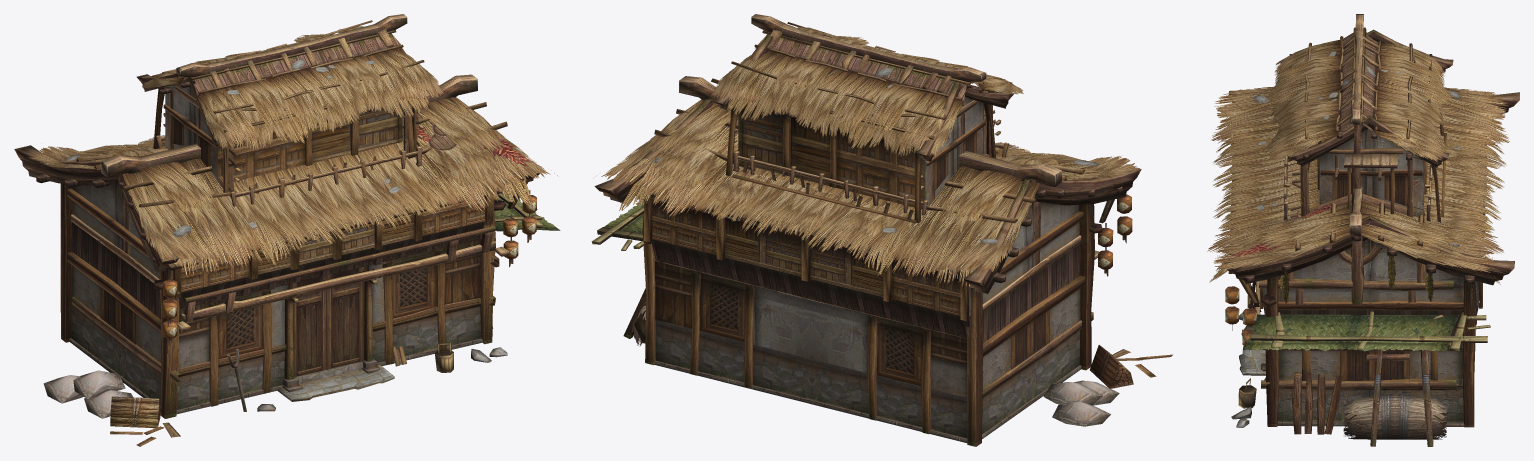
Rendered from C5_Build_7.FBX.
The picture shows the model from 3 angles, left to right: view 1: azimuth 30°, elevation 25°; view 2: azimuth 150°, elevation 25°; view 3: azimuth 270°, elevation 25°; orthographic projection. The views are drawn at different scales.
Visible parts, largest first — view 1: C5_Build_TOP, C5_Build_DOWN; view 2: C5_Build_DOWN, C5_Build_TOP; view 3: C5_Build_TOP, C5_Build_DOWN.
Boxes of the visible parts, bbox=[...] form: C5_Build_TOP: bbox=[29, 14, 560, 418]; C5_Build_DOWN: bbox=[14, 29, 543, 446]; C5_Build_DOWN: bbox=[591, 35, 1172, 446]; C5_Build_TOP: bbox=[593, 14, 1139, 426]; C5_Build_TOP: bbox=[1207, 14, 1509, 439]; C5_Build_DOWN: bbox=[1222, 29, 1519, 446].
Bounding box in the file's own units: 1131 × 748 × 727.
